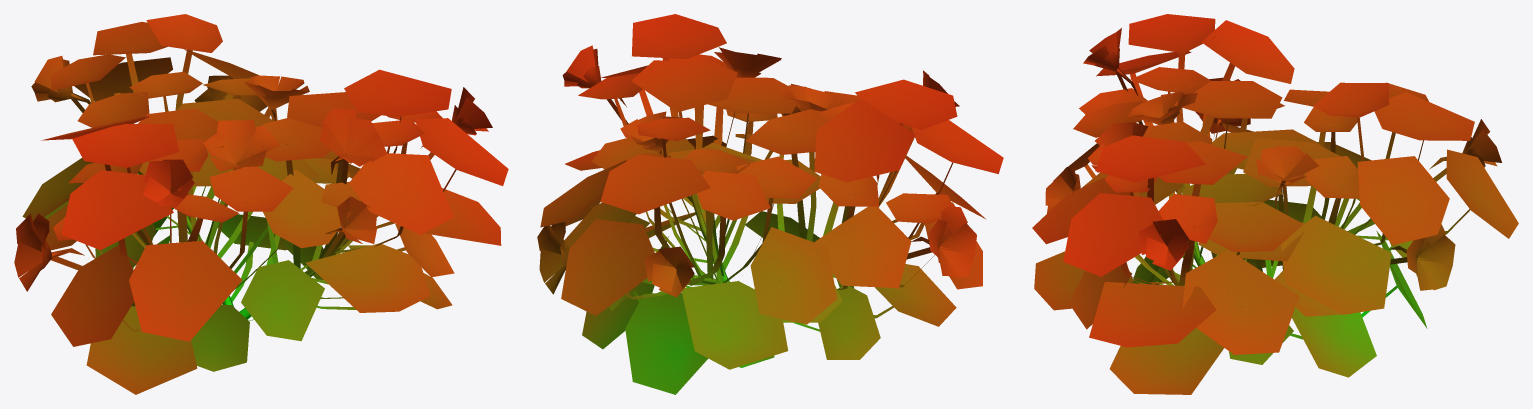
The model's file is Var1_LOD1.fbx.
3 renders of one model, left to right at view 1: azimuth 30°, elevation 25°; view 2: azimuth 150°, elevation 25°; view 3: azimuth 270°, elevation 25°, orthographic. The views are drawn at different scales.
Visible parts, largest first — view 1: _8453_Var1_LOD1; view 2: _8453_Var1_LOD1; view 3: _8453_Var1_LOD1.
Part boxes in pixels (x1,y1,x2,y2): _8453_Var1_LOD1: [14, 14, 508, 394]; _8453_Var1_LOD1: [537, 14, 1003, 394]; _8453_Var1_LOD1: [1032, 14, 1518, 394].
Bounding box in the file's own units: 43.84 × 24.05 × 43.26.
